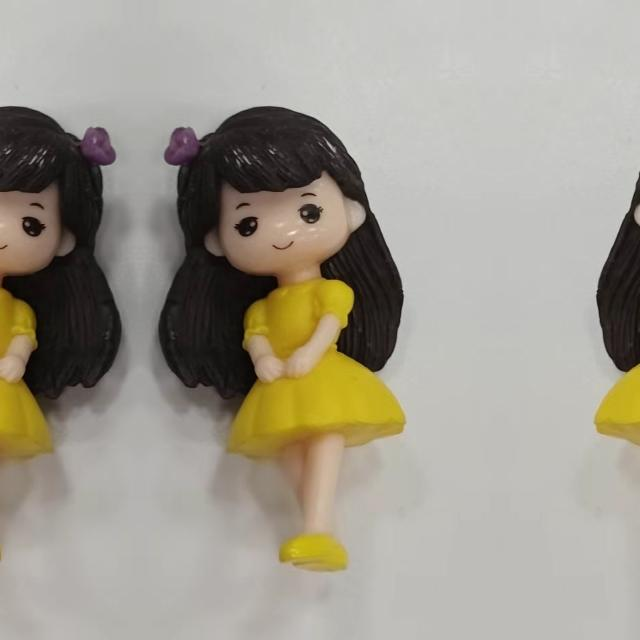woman dress: (224, 284, 410, 468), (0, 284, 55, 468), (590, 284, 640, 468)
woman head: (157, 90, 393, 282), (0, 90, 123, 281), (607, 90, 640, 281)
